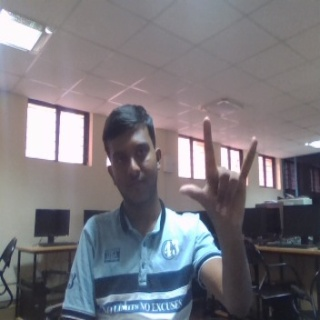Face: (100, 102, 166, 208)
I Love You: (175, 113, 260, 233)
